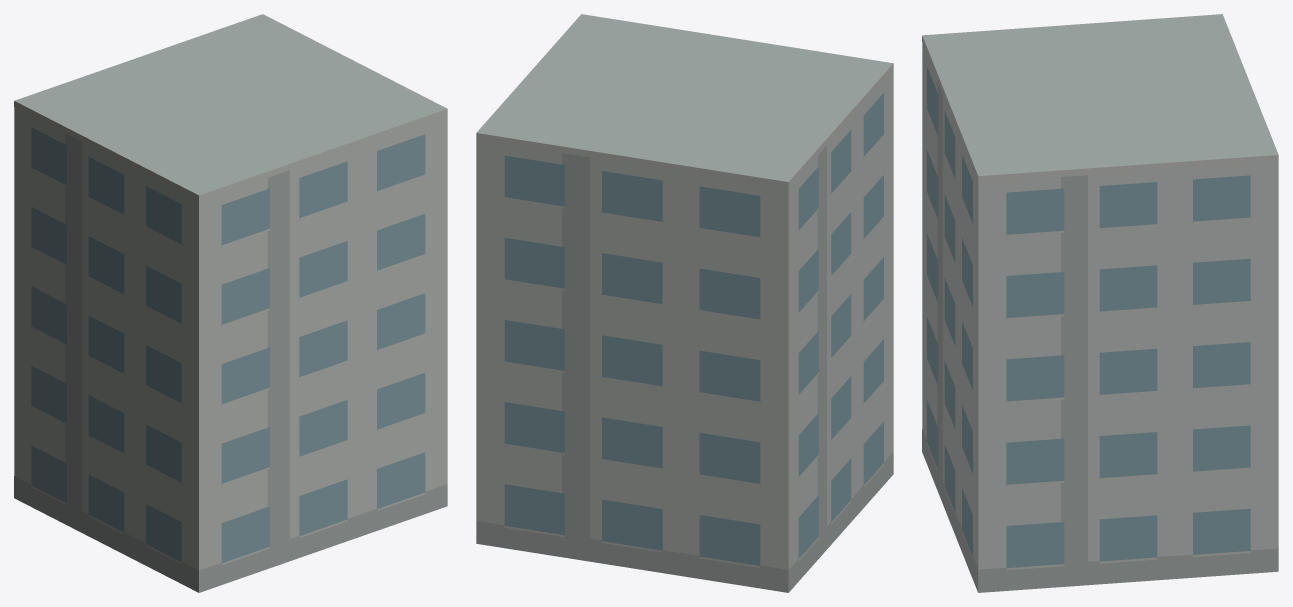
Rendered from residential-eb81e229-d468-4d31-9d10-454bad755ed8.glb.
The picture shows the model from 3 angles, left to right: view 1: azimuth 30°, elevation 25°; view 2: azimuth 150°, elevation 25°; view 3: azimuth 270°, elevation 25°; orthographic projection. The views are drawn at different scales.
Visible parts, largest first — view 1: residential-eb81e229-d468-4d31-9d10-454bad755ed8.tmp; view 2: residential-eb81e229-d468-4d31-9d10-454bad755ed8.tmp; view 3: residential-eb81e229-d468-4d31-9d10-454bad755ed8.tmp.
Boxes of the visible parts, x1=… form: residential-eb81e229-d468-4d31-9d10-454bad755ed8.tmp: x1=14, y1=14, x2=447, y2=592; residential-eb81e229-d468-4d31-9d10-454bad755ed8.tmp: x1=476, y1=14, x2=893, y2=592; residential-eb81e229-d468-4d31-9d10-454bad755ed8.tmp: x1=922, y1=14, x2=1278, y2=592.
Size of the model in its own units: 12.74 by 15.25 by 11.83.
